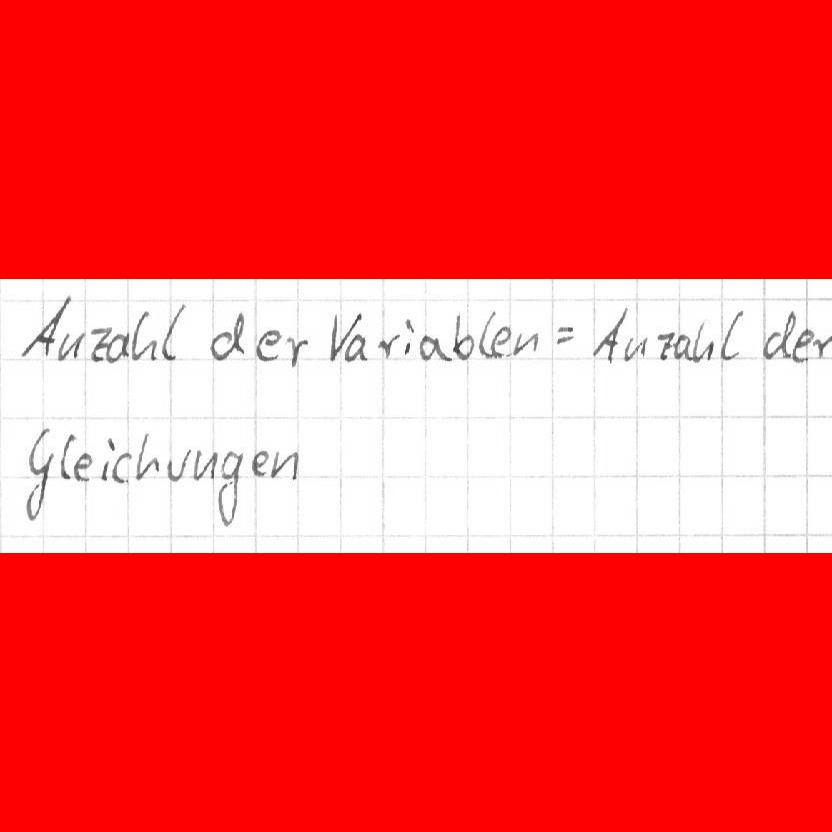Char: (21, 424, 57, 525), (18, 293, 65, 360), (215, 449, 244, 529), (208, 309, 248, 363), (589, 307, 626, 362), (762, 310, 795, 361), (129, 308, 159, 362), (160, 302, 187, 361), (135, 430, 162, 482), (719, 308, 744, 363), (450, 312, 477, 362), (328, 311, 353, 363), (690, 320, 715, 364), (57, 329, 87, 364), (58, 431, 78, 482), (269, 447, 299, 481), (254, 328, 282, 364), (476, 309, 495, 360), (789, 328, 815, 365), (417, 335, 452, 362), (192, 448, 219, 482), (283, 334, 309, 369), (89, 323, 111, 363), (620, 332, 648, 363), (489, 324, 513, 359), (342, 333, 369, 364), (99, 436, 116, 485), (104, 331, 130, 363), (166, 447, 189, 483), (112, 449, 134, 486), (511, 329, 539, 358), (376, 331, 401, 361), (73, 449, 93, 484), (401, 317, 417, 359), (655, 328, 674, 363), (250, 448, 269, 480), (811, 331, 832, 359), (673, 332, 691, 361), (554, 325, 575, 345)
